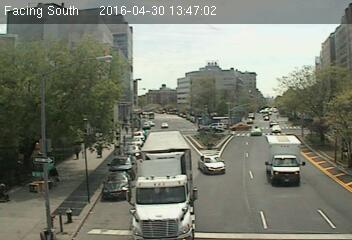neg: (183, 51, 218, 97), (232, 120, 263, 161), (77, 57, 107, 98), (150, 55, 179, 93), (249, 32, 278, 70), (21, 36, 48, 72), (233, 71, 258, 105), (163, 145, 187, 176), (32, 105, 54, 134), (232, 195, 254, 224), (315, 93, 333, 118), (280, 76, 298, 101), (117, 194, 135, 219), (162, 193, 180, 217), (214, 156, 231, 180), (33, 161, 50, 185), (76, 197, 93, 220), (275, 171, 291, 193), (23, 212, 38, 232), (130, 130, 142, 146)
pos: (93, 144, 109, 164), (71, 144, 83, 161)
